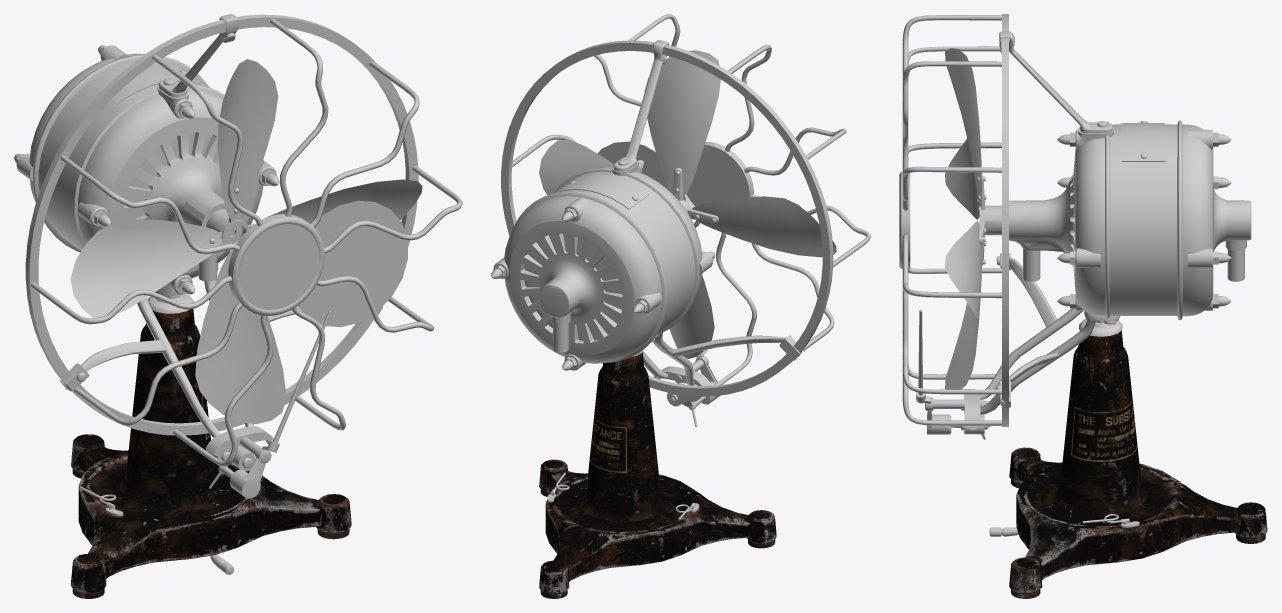
3 renders of one model, left to right at view 1: azimuth 30°, elevation 25°; view 2: azimuth 150°, elevation 25°; view 3: azimuth 270°, elevation 25°, orthographic. The views are drawn at different scales.
Parts seen in each view (by area): view 1: Bot_low1, Body_low1, pipe_low2, Loop_low1, fanleaf_low6, Obsticle_low1, fanleaf_low5, fanleaf_low7, G1a_low1, Mark_low1, fanleaf_low4, Bolt_01_low3 (+4 smaller); view 2: Body_low1, Bot_low1, Loop_low1, fanleaf_low7, pipe_low2, fanleaf_low6, G1a_low1, Mark_low1, fanleaf_low4, fanleaf_low5, Inner_low1, Obsticle_low1 (+4 smaller); view 3: Body_low1, Bot_low1, pipe_low2, G1a_low1, Loop_low1, fanleaf_low7, fanleaf_low4, fanleaf_low5, Bolt_01_low2, fanleaf_low6, Tizer_low1, FanLoot_low1 (+1 smaller).
Boxes of the visible parts, bbox=[...] form: Bot_low1: bbox=[71, 309, 351, 598]; Body_low1: bbox=[17, 45, 276, 296]; pipe_low2: bbox=[30, 18, 462, 466]; Loop_low1: bbox=[25, 14, 418, 435]; fanleaf_low6: bbox=[70, 219, 221, 317]; Obsticle_low1: bbox=[297, 200, 407, 327]; fanleaf_low5: bbox=[195, 250, 286, 423]; fanleaf_low7: bbox=[217, 59, 278, 220]; G1a_low1: bbox=[59, 14, 382, 463]; Mark_low1: bbox=[239, 224, 319, 309]; fanleaf_low4: bbox=[265, 179, 422, 223]; Bolt_01_low3: bbox=[228, 214, 324, 315]; Body_low1: bbox=[493, 160, 712, 370]; Bot_low1: bbox=[539, 351, 776, 598]; Loop_low1: bbox=[501, 40, 833, 396]; fanleaf_low7: bbox=[644, 50, 720, 195]; pipe_low2: bbox=[512, 14, 870, 385]; fanleaf_low6: bbox=[692, 196, 836, 257]; G1a_low1: bbox=[613, 40, 803, 386]; Mark_low1: bbox=[686, 150, 744, 206]; fanleaf_low4: bbox=[539, 139, 613, 195]; fanleaf_low5: bbox=[669, 275, 714, 358]; Inner_low1: bbox=[524, 233, 622, 340]; Obsticle_low1: bbox=[597, 141, 685, 200]; Body_low1: bbox=[1009, 120, 1251, 320]; Bot_low1: bbox=[1009, 330, 1267, 598]; pipe_low2: bbox=[902, 15, 1001, 425]; G1a_low1: bbox=[925, 31, 1120, 430]; Loop_low1: bbox=[1002, 14, 1008, 426]; fanleaf_low7: bbox=[945, 48, 982, 207]; fanleaf_low4: bbox=[945, 221, 982, 318]; fanleaf_low5: bbox=[945, 298, 980, 389]; Bolt_01_low2: bbox=[1057, 132, 1231, 308]; fanleaf_low6: bbox=[945, 138, 981, 219]; Tizer_low1: bbox=[916, 309, 985, 439]; FanLoot_low1: bbox=[979, 174, 1001, 265].
Bounding box in the file's own units: 0.5904 × 0.8001 × 0.5261.
